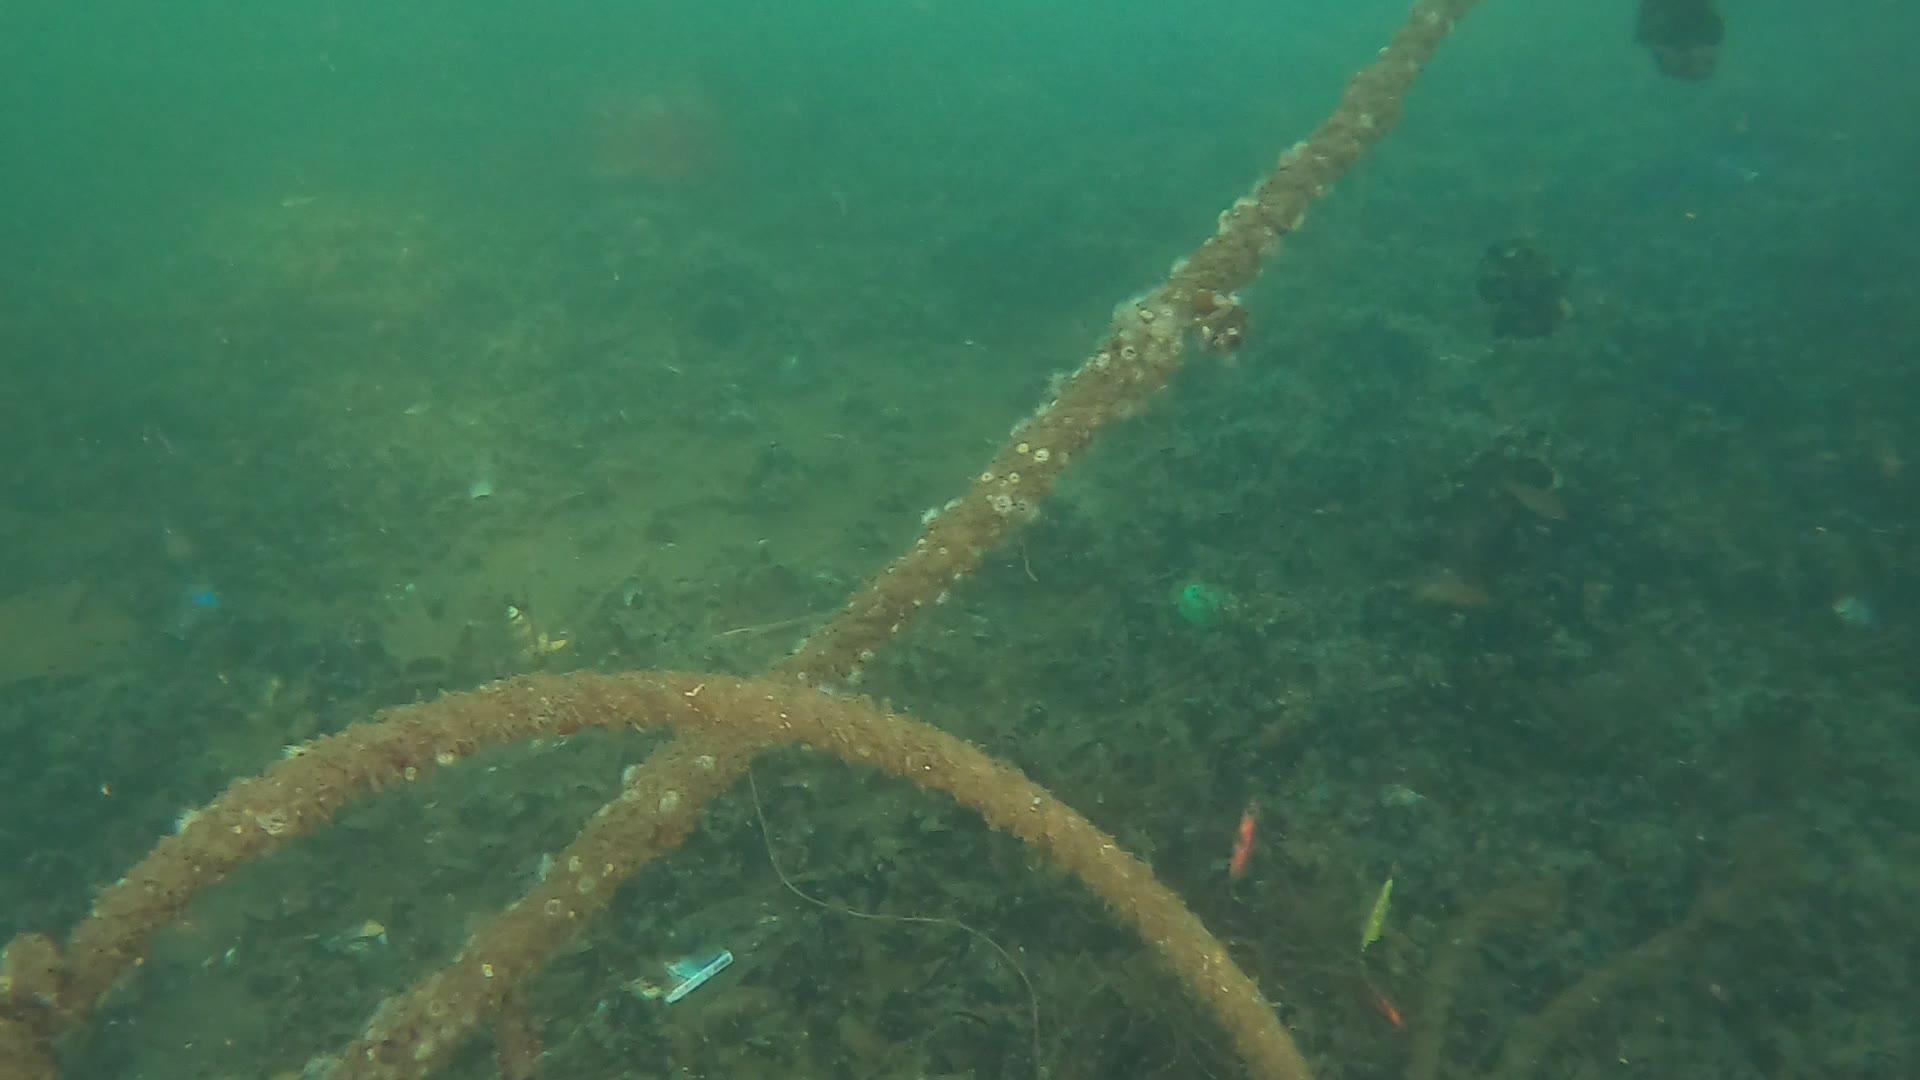bundle of ropes: (0, 0, 1478, 1080)
